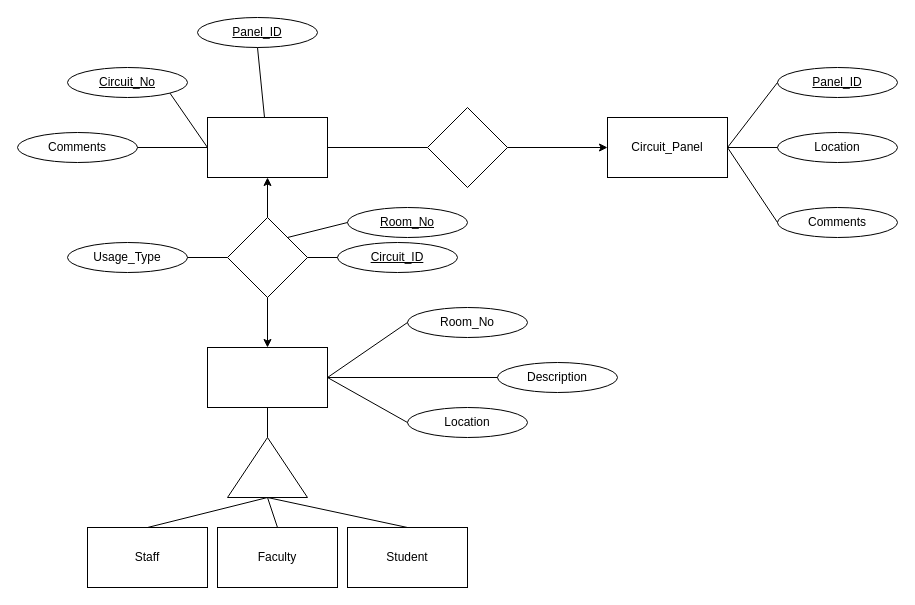
This 915x605 diagram has some shape labels left out. The centre of each missing label's shape, as x and y in pixels:
"Circuit" belongs at (267,147).
"Compose" belongs at (467,147).
"Feed" belongs at (267,257).
"isa" belongs at (267,467).
"Room" belongs at (267,377).
